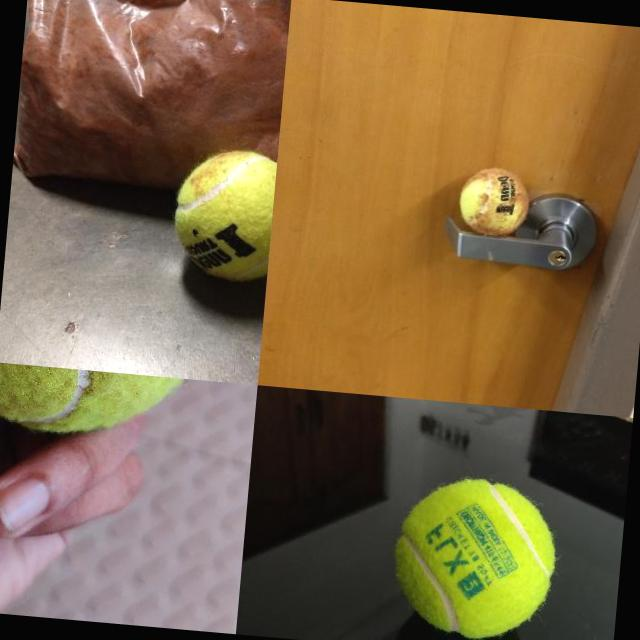Tennis Ball: (386, 469, 563, 640), (0, 362, 217, 445), (168, 143, 278, 283), (455, 162, 533, 236)
